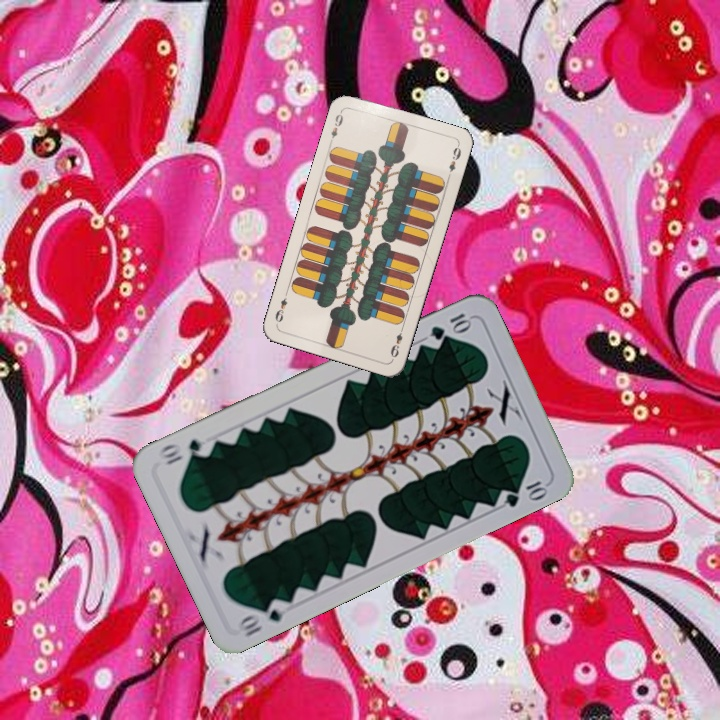E9: (326, 106, 346, 146), (386, 322, 407, 360)
G10: (233, 594, 292, 639), (426, 309, 474, 343)
